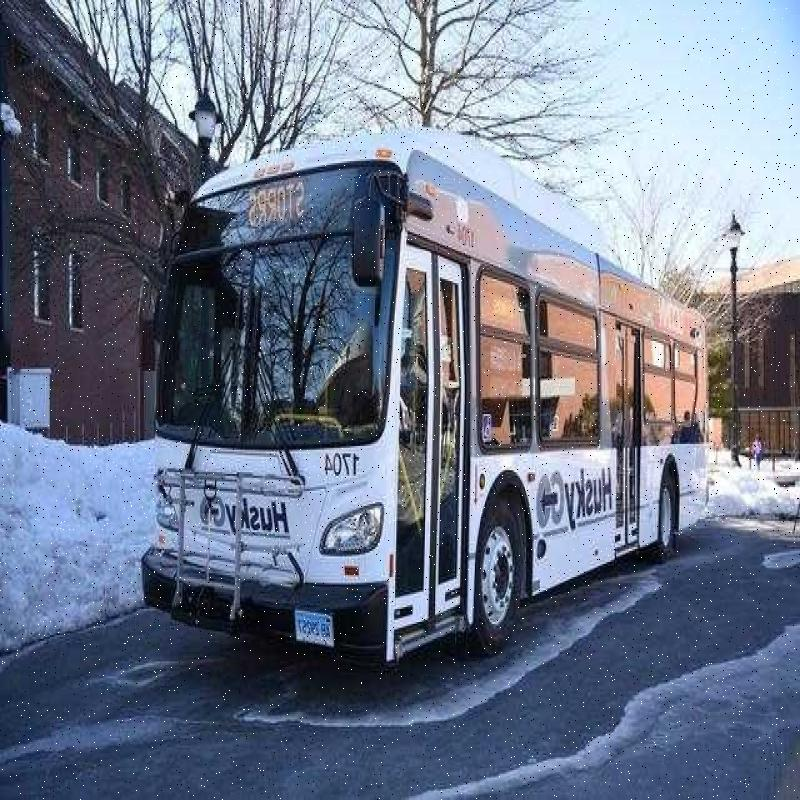bus: (119, 114, 720, 712)
